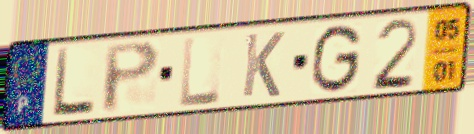2: (371, 16, 420, 92)
G: (308, 22, 365, 96)
K: (239, 30, 287, 100)
L: (50, 46, 98, 121), (178, 33, 223, 110)
P: (101, 38, 163, 116)
